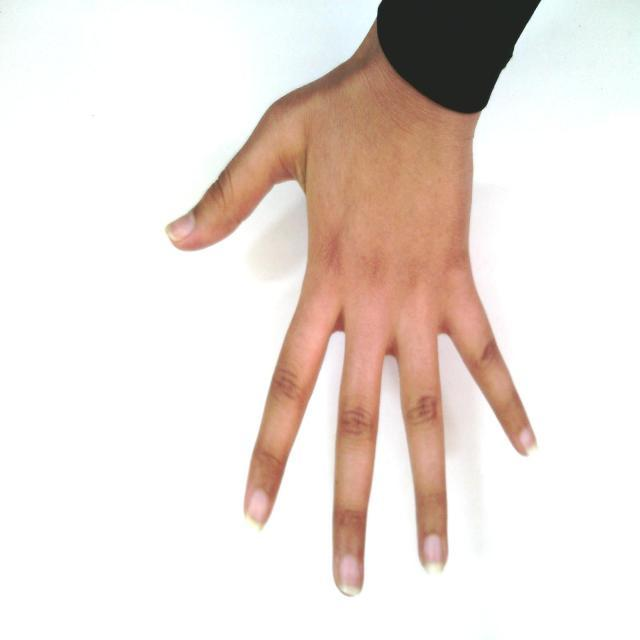Fingernail: (247, 490, 270, 530), (340, 554, 361, 596), (423, 534, 444, 574), (166, 215, 193, 240), (519, 428, 536, 454)
